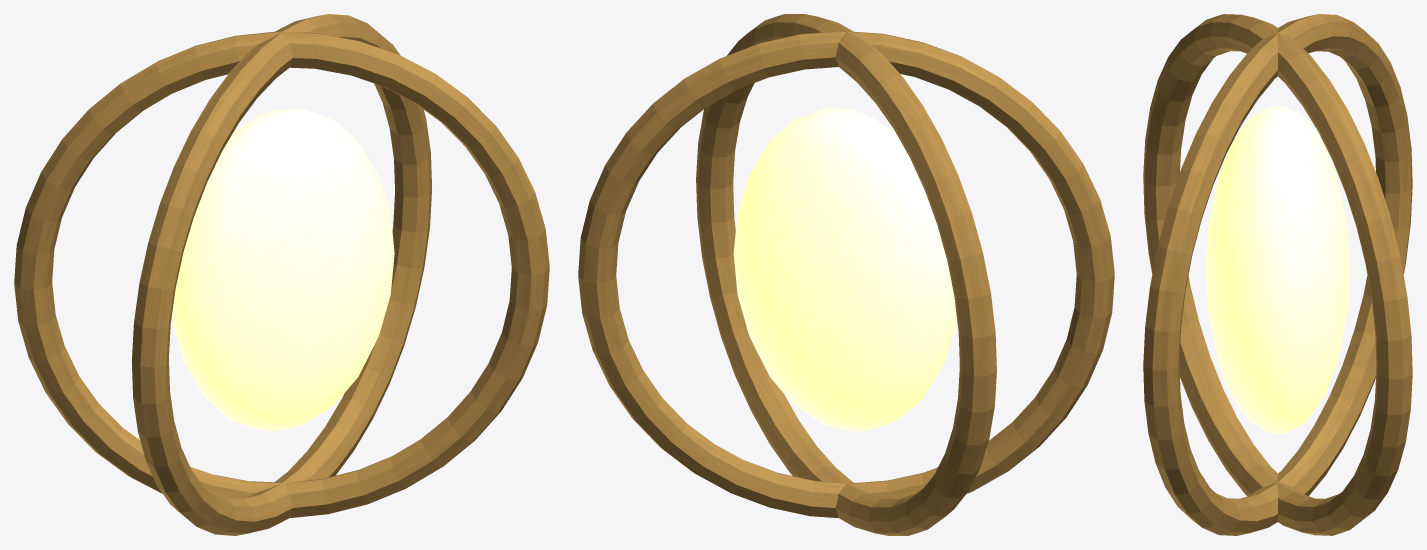
Rendered from MandateCrest.glb.
3 views of the same model, side by side, from view 1: azimuth 30°, elevation 25°; view 2: azimuth 150°, elevation 25°; view 3: azimuth 270°, elevation 25° (orthographic).
Parts seen in each view (by area): view 1: Heartstone, Orbit, Orbit.001; view 2: Heartstone, Orbit.001, Orbit; view 3: Orbit.001, Orbit, Heartstone.
Boxes of the visible parts, x1=… form: Heartstone: x1=172, y1=108, x2=394, y2=431; Orbit: x1=14, y1=31, x2=549, y2=517; Orbit.001: x1=131, y1=14, x2=432, y2=535; Heartstone: x1=733, y1=108, x2=956, y2=431; Orbit.001: x1=578, y1=31, x2=1114, y2=518; Orbit: x1=696, y1=14, x2=996, y2=535; Orbit.001: x1=1143, y1=14, x2=1412, y2=535; Orbit: x1=1143, y1=14, x2=1412, y2=535; Heartstone: x1=1205, y1=105, x2=1350, y2=434.
Size of the model in its own units: 0.8502 by 0.9578 by 0.4838.
2 materials, 2 textured.
